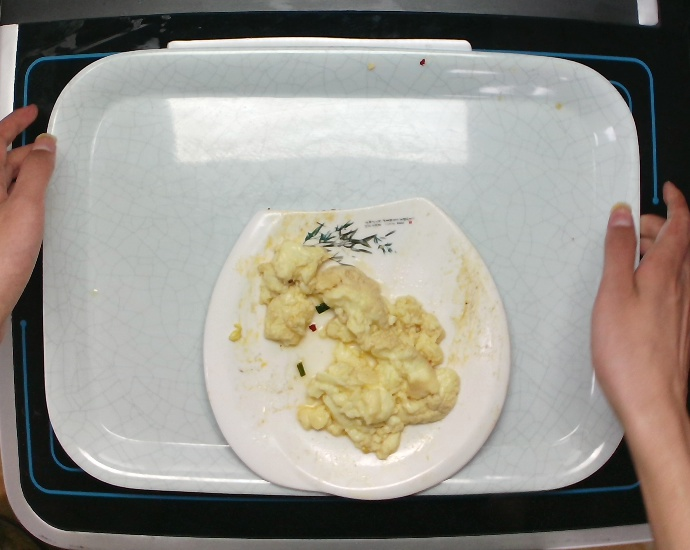JYsf-Mian_Pan: (201, 194, 512, 501)
